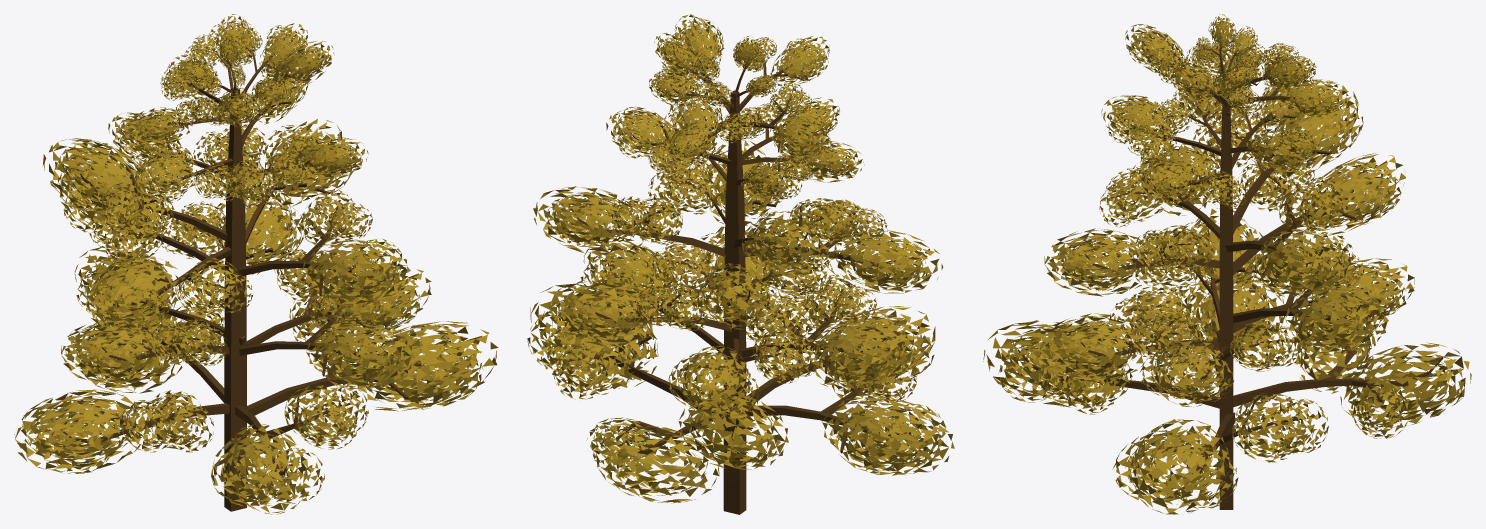
The model's file is tree4.fbx.
3 renders of one model, left to right at view 1: azimuth 30°, elevation 25°; view 2: azimuth 150°, elevation 25°; view 3: azimuth 270°, elevation 25°, orthographic. The views are drawn at different scales.
Parts seen in each view (by area): view 1: tREEvERT1; view 2: tREEvERT1; view 3: tREEvERT1.
Boxes of the visible parts, x1,y1,x2,y2 form: tREEvERT1: (14, 14, 498, 514); tREEvERT1: (527, 14, 954, 514); tREEvERT1: (983, 14, 1471, 514).
Size of the model in its own units: 0.0537 by 0.0545 by 0.0497.
